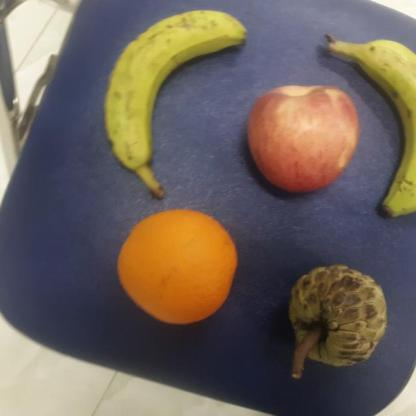annona: (282, 263, 390, 372)
apple: (245, 80, 361, 197)
banana: (349, 33, 416, 219)
guava: (100, 6, 250, 168)
orange: (117, 206, 238, 326)
